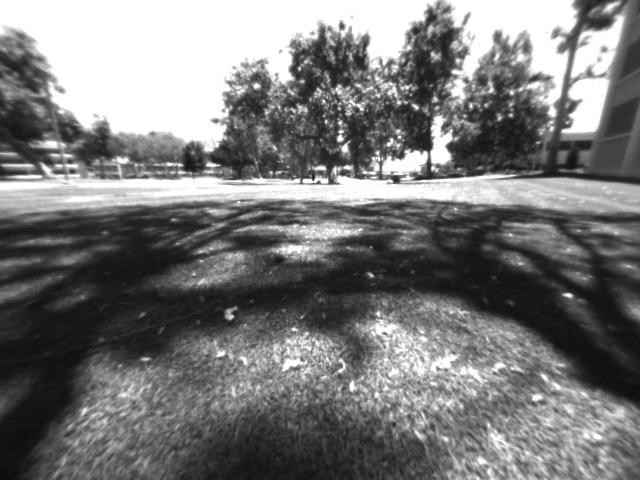dogtoy: (267, 245, 293, 268)
